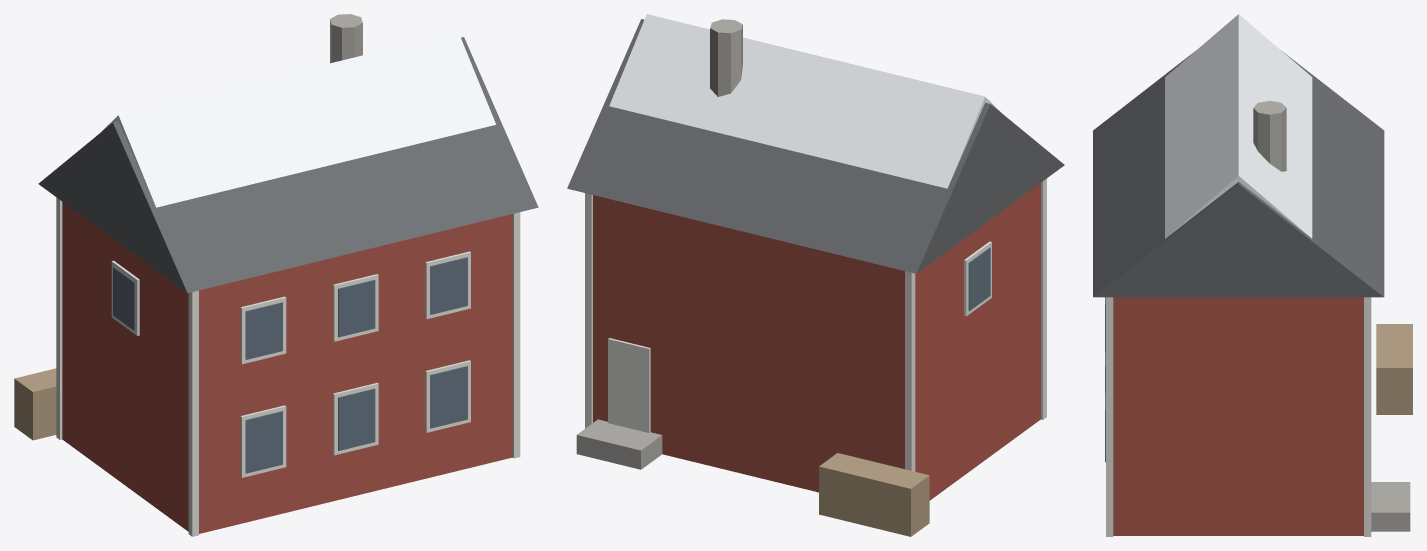
The model's file is FjordHouseRed.glb.
3 views of the same model, side by side, from view 1: azimuth 30°, elevation 25°; view 2: azimuth 150°, elevation 25°; view 3: azimuth 270°, elevation 25° (orthographic). The views are drawn at different scales.
Parts seen in each view (by area): view 1: House, Roof.001, Roof snow, Woodpile, Corner board, Corner board.002, Window.012, Window.014, Window.010, Window.013, Window.015, Window.011 (+10 smaller); view 2: House, Roof.001, Roof snow, Woodpile, Door, Step, Chimney, Corner board.001, Corner board.003, Corner board, Window.016, Window frame.016; view 3: House, Roof.001, Roof snow, Woodpile, Chimney, Step, Corner board.002, Corner board.003.
Part boxes in pixels (bbox=[...]): House: bbox=[62, 202, 512, 533]; Roof.001: bbox=[38, 37, 538, 293]; Roof snow: bbox=[101, 32, 495, 207]; Woodpile: bbox=[14, 368, 56, 440]; Corner board: bbox=[188, 290, 198, 536]; Corner board.002: bbox=[512, 212, 520, 458]; Window.012: bbox=[338, 388, 375, 450]; Window.014: bbox=[430, 366, 467, 428]; Window.010: bbox=[245, 411, 282, 473]; Window.013: bbox=[338, 280, 375, 337]; Window.015: bbox=[430, 257, 467, 314]; Window.011: bbox=[245, 302, 282, 359]; House: bbox=[593, 183, 1040, 500]; Roof.001: bbox=[567, 19, 1064, 273]; Roof snow: bbox=[609, 14, 1001, 188]; Woodpile: bbox=[819, 453, 929, 536]; Door: bbox=[608, 338, 650, 432]; Step: bbox=[576, 419, 662, 469]; Chimney: bbox=[710, 19, 742, 96]; Corner board.001: bbox=[905, 271, 915, 471]; Corner board.003: bbox=[585, 193, 592, 428]; Corner board: bbox=[1041, 178, 1046, 419]; Window.016: bbox=[968, 247, 990, 311]; Window frame.016: bbox=[964, 241, 991, 316]; House: bbox=[1113, 297, 1363, 535]; Roof.001: bbox=[1093, 51, 1384, 297]; Roof snow: bbox=[1165, 14, 1312, 238]; Woodpile: bbox=[1376, 324, 1412, 414]; Chimney: bbox=[1253, 100, 1286, 171]; Step: bbox=[1371, 482, 1410, 531]; Corner board.002: bbox=[1106, 297, 1113, 536]; Corner board.003: bbox=[1364, 297, 1371, 536].
Size of the model in its own units: 7.8 by 8.2 by 6.15.
